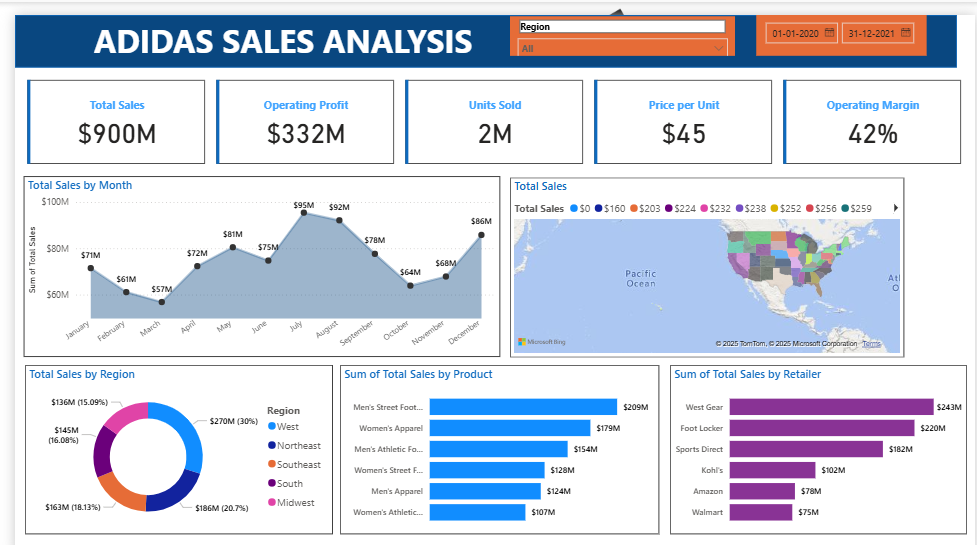

What the dashboard file says about the page in this screenshot:
{"tool":"powerbi","page":{"name":"Page 1","canvas":[1280,720],"ordinal":0},"visuals":[{"type":"shape","box":[0,0,1255.7,70],"z":0},{"type":"textbox","box":[100.2,0,559.9,70],"z":1},{"type":"cardVisual","fields":{"Data":["Sum(Data Sales Adidas.Total Sales)","Sum(Data Sales Adidas.Operating Profit)","Sum(Data Sales Adidas.Units Sold)","Avg(Data Sales Adidas.Price per Unit)","Avg(Data Sales Adidas.Operating Margin)"]},"box":[12.3,82.3,1255.6,122.1],"z":2},{"type":"areaChart","title":" Total Sales by Month","fields":{"Category":["Data Sales Adidas.Invoice Date.Variation.Date Hierarchy.Month"],"Y":["Sum(Data Sales Adidas.Total Sales)"]},"box":[12.2,215.6,635.6,241.1],"z":3},{"type":"filledMap","title":" Total Sales","fields":{"Category":["Data Sales Adidas.State"],"Series":["Data Sales Adidas.Total Sales"]},"box":[660,217.1,525.7,240],"z":4},{"type":"donutChart","title":"Total Sales by Region","fields":{"Y":["Sum(Data Sales Adidas.Total Sales)"],"Category":["Data Sales Adidas.Region"]},"box":[12.9,467.1,410,225.7],"z":5},{"type":"barChart","fields":{"Category":["Data Sales Adidas.Product"],"Y":["Sum(Data Sales Adidas.Total Sales)"]},"box":[432.9,467.1,425.7,225.7],"z":6},{"type":"barChart","fields":{"Y":["Sum(Data Sales Adidas.Total Sales)"],"Category":["Data Sales Adidas.Retailer"]},"box":[872.9,467.1,395.7,225.7],"z":7},{"type":"slicer","fields":{"Values":["Data Sales Adidas.Region"]},"box":[660,1.4,300,52.9],"z":8},{"type":"slicer","fields":{"Values":["Data Sales Adidas.Invoice Date"]},"box":[988.6,0,227.1,54.3],"z":9}]}

Visuals, with their boxes in screenshot pixels (x1, y1, x2, y2), scaled from the page's 1280x720 canvas onto the 977x545 screenshot:
shape: (0, 0, 958, 53)
textbox: (76, 0, 504, 53)
cardVisual - Sum(Data Sales Adidas.Total Sales) x Sum(Data Sales Adidas.Operating Profit): (9, 62, 968, 155)
" Total Sales by Month" areaChart: (9, 163, 494, 346)
" Total Sales" filledMap: (504, 164, 905, 346)
"Total Sales by Region" donutChart: (10, 354, 323, 524)
barChart - Data Sales Adidas.Product x Sum(Data Sales Adidas.Total Sales): (330, 354, 655, 524)
barChart - Sum(Data Sales Adidas.Total Sales) x Data Sales Adidas.Retailer: (666, 354, 968, 524)
slicer - Data Sales Adidas.Region: (504, 1, 733, 41)
slicer - Data Sales Adidas.Invoice Date: (755, 0, 928, 41)
